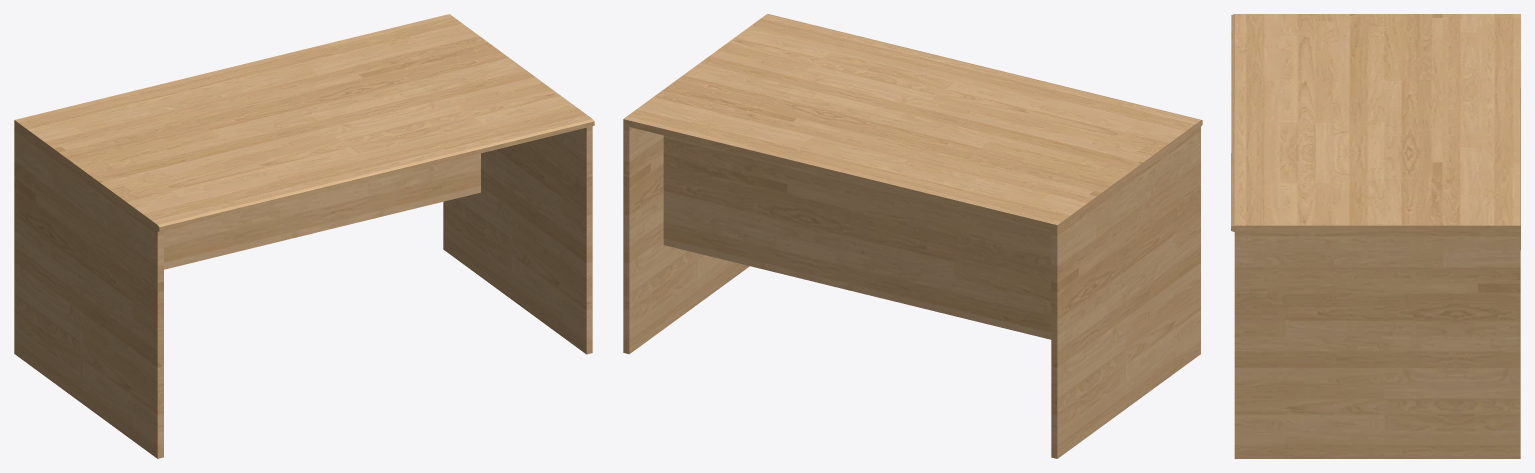
The model's file is by-simpledesk.glb.
3 views of the same model, side by side, from view 1: azimuth 30°, elevation 25°; view 2: azimuth 150°, elevation 25°; view 3: azimuth 270°, elevation 25° (orthographic).
Visible parts, largest first — view 1: Desk; view 2: Desk; view 3: Desk.
Part boxes in pixels (<box>): Desk: <box>14,14,594,458</box>; Desk: <box>623,14,1202,458</box>; Desk: <box>1231,14,1520,458</box>.
Bounding box in the file's own units: 1.4 × 0.7199 × 0.8111.
1 material, 1 textured.
